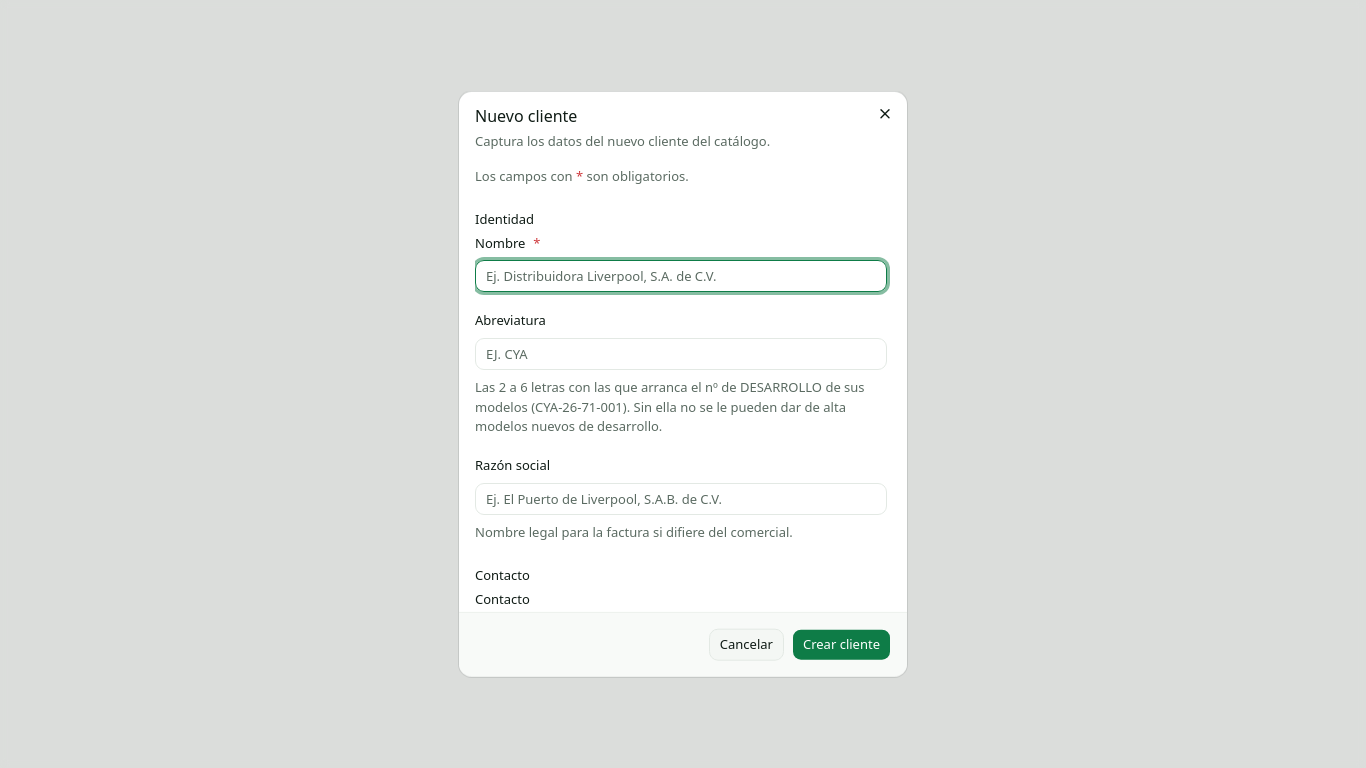
Scenario: <DialogoCliente> › rechaza un email inválido y no envía
Type "Liverpool" into the field labelled "Nombre *" at (681, 276), box [475,260,887,292]
(page scrolled)
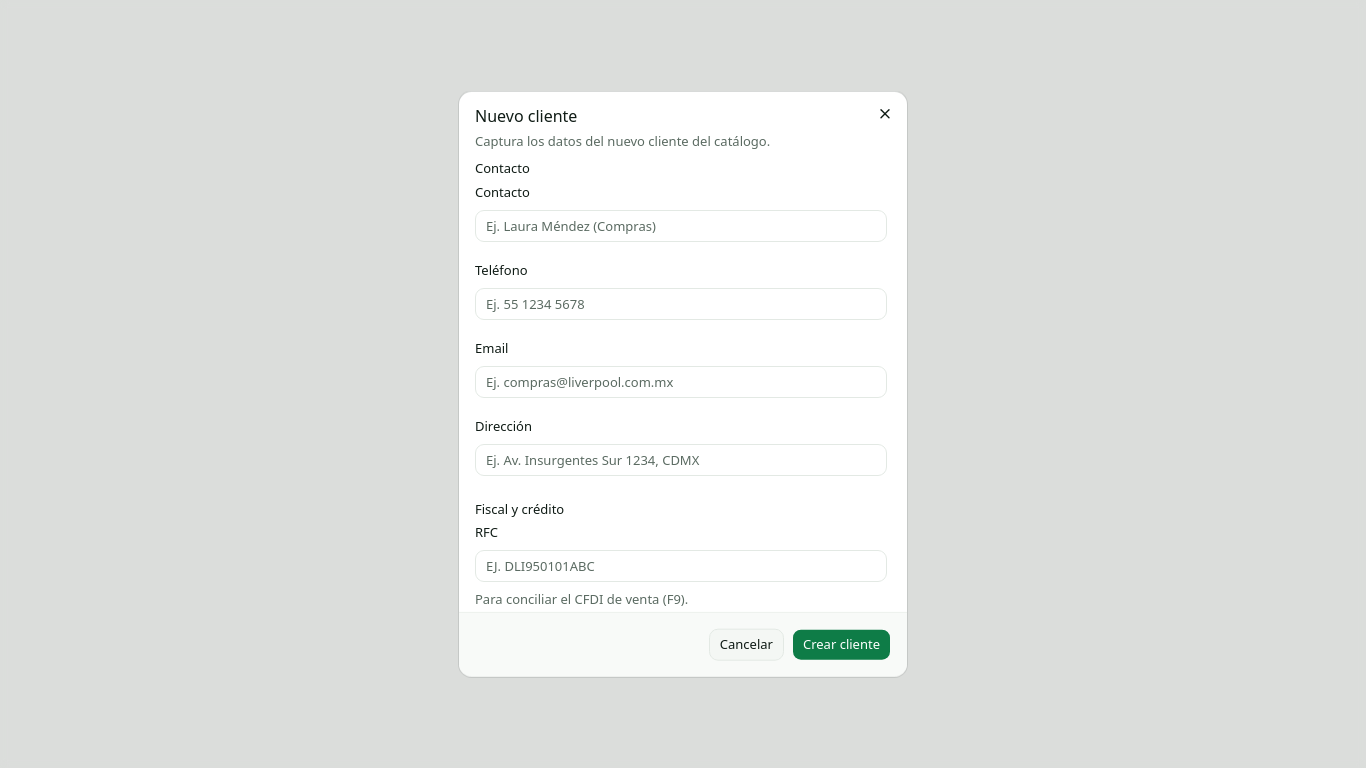
Type "no-es-email" into the field labelled "Email" at (681, 381), box [475,365,887,397]
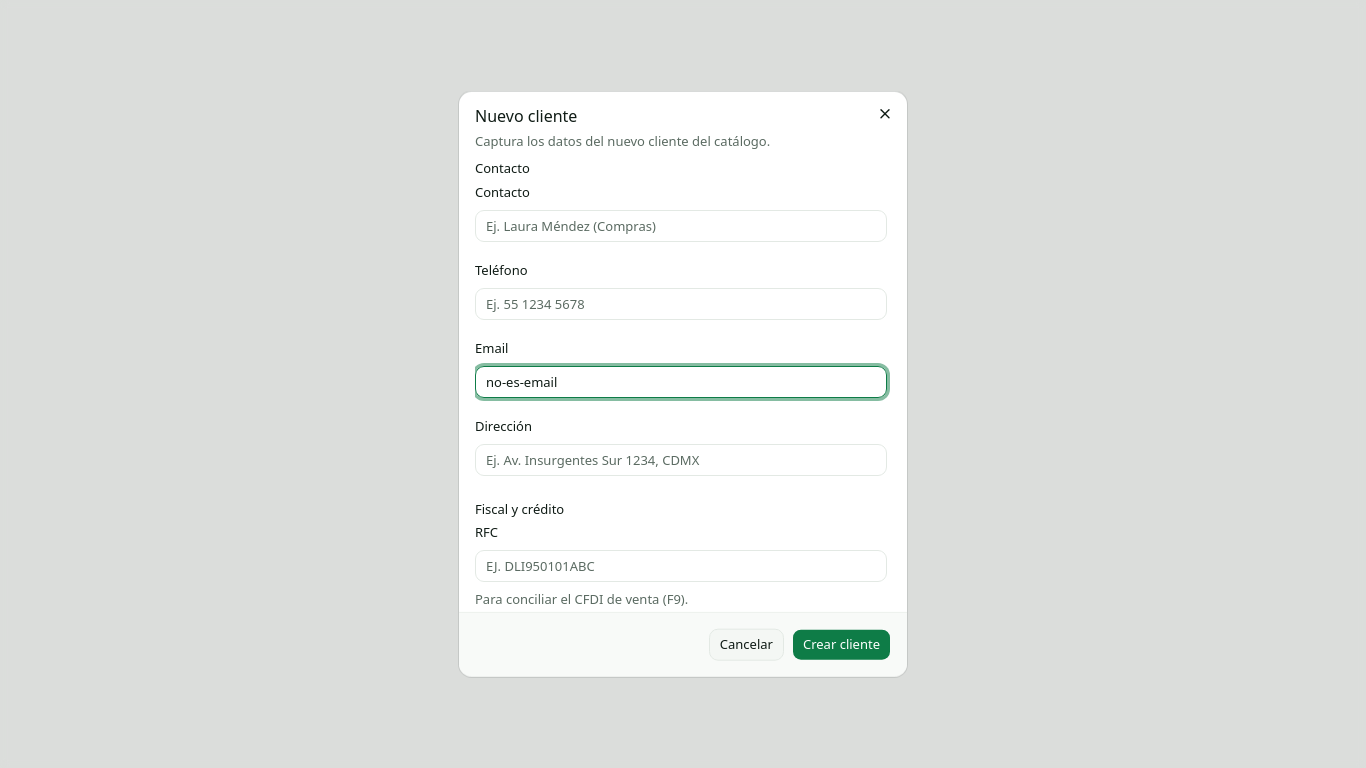
Click the button with test id "guardar-cliente" at (842, 644), box [792,628,891,660]
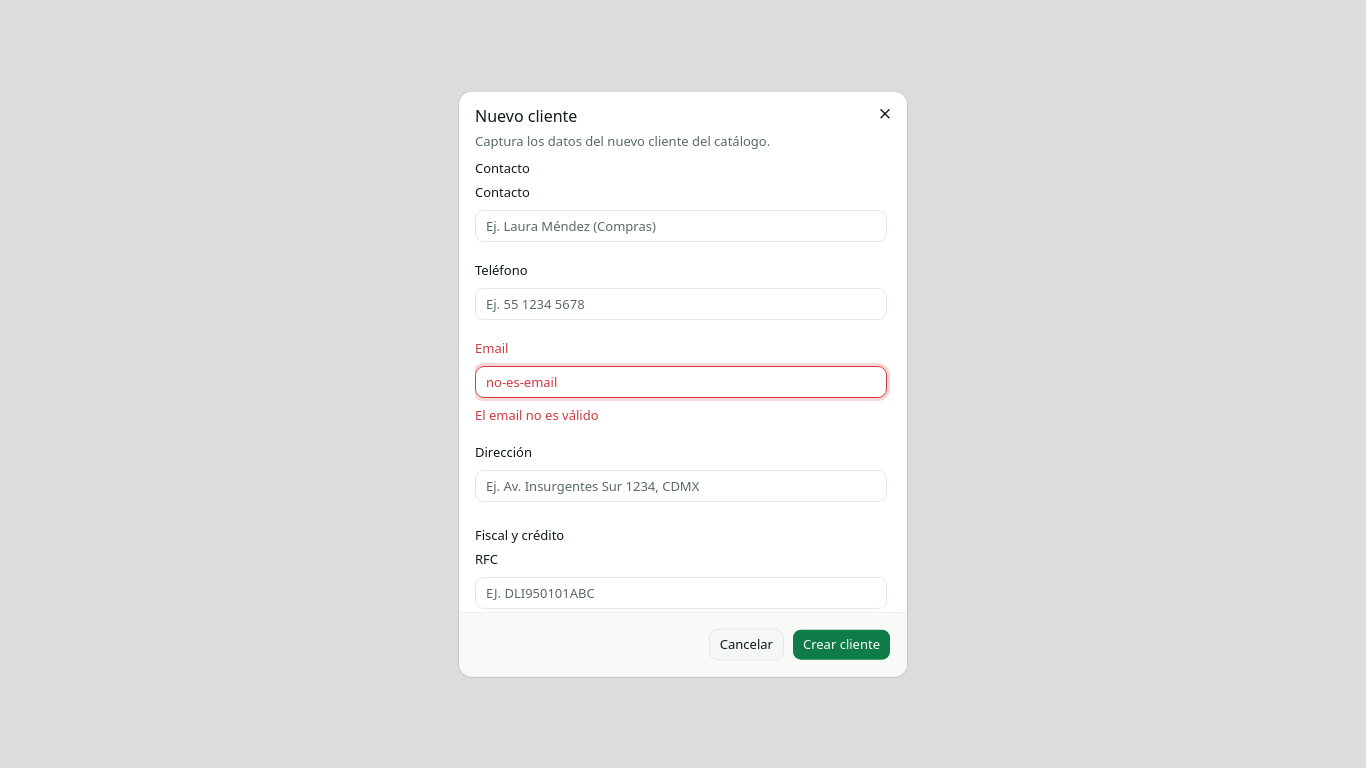
Expected: the text "El email no es válido" is shown, [475,405,598,423]
